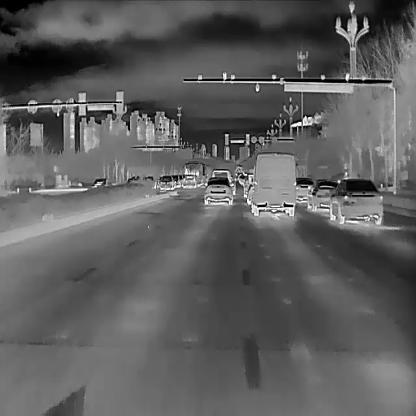car: (249, 152, 295, 216), (328, 178, 383, 223), (307, 179, 342, 209), (204, 176, 233, 206), (212, 168, 234, 194), (184, 159, 210, 180), (295, 177, 313, 203), (181, 172, 195, 190), (157, 174, 171, 188)
